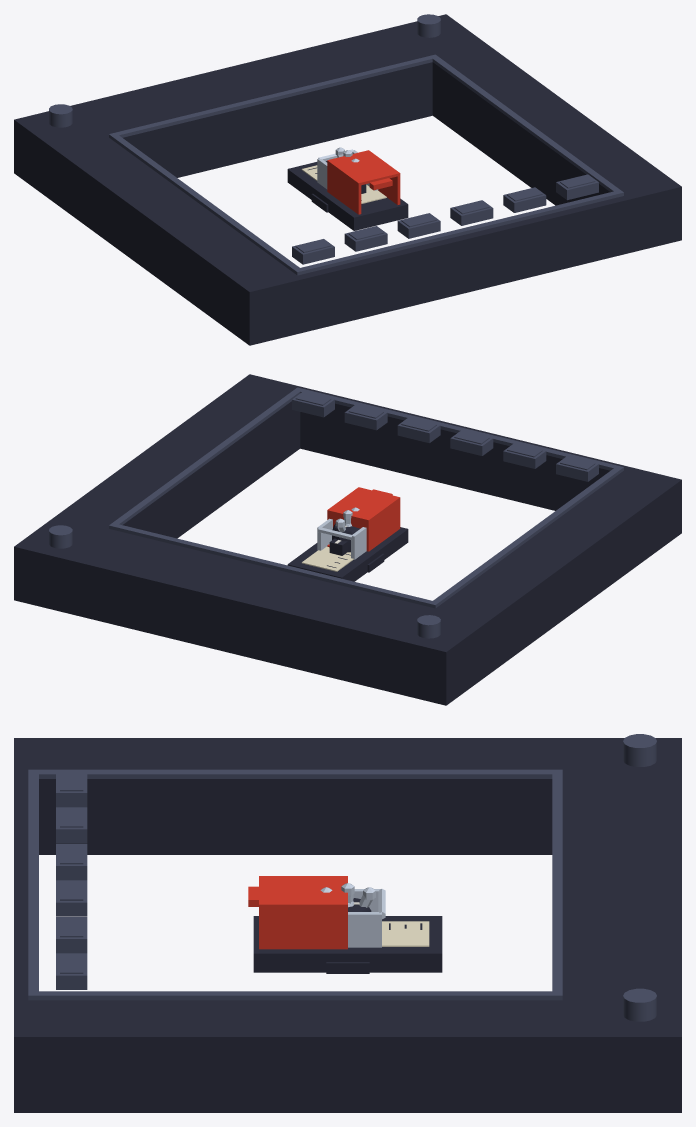
File: NI_Kit.fbx
The picture shows the model from 3 angles, top to bottom: view 1: azimuth 30°, elevation 25°; view 2: azimuth 150°, elevation 25°; view 3: azimuth 270°, elevation 25°; orthographic projection. The views are drawn at different scales.
Visible parts, largest first — view 1: KIT_MDU, KIT_Tampa, KIT_Medidor; view 2: KIT_MDU, KIT_Tampa, KIT_Medidor, KIT_Guarda; view 3: KIT_MDU, KIT_Tampa, KIT_Medidor, KIT_Guarda.
Part boxes in pixels (box(x1,y1,x2,y2)): KIT_MDU: box(14, 14, 681, 345); KIT_Tampa: box(327, 150, 400, 214); KIT_Medidor: box(287, 161, 408, 230); KIT_MDU: box(14, 374, 681, 705); KIT_Tampa: box(327, 487, 400, 551); KIT_Medidor: box(287, 527, 408, 581); KIT_Guarda: box(317, 518, 366, 559); KIT_MDU: box(14, 734, 681, 1112); KIT_Tampa: box(248, 876, 347, 949); KIT_Medidor: box(253, 916, 442, 972); KIT_Guarda: box(348, 889, 385, 947).
Bounding box in the file's own units: 0.27 × 0.04 × 0.255.
